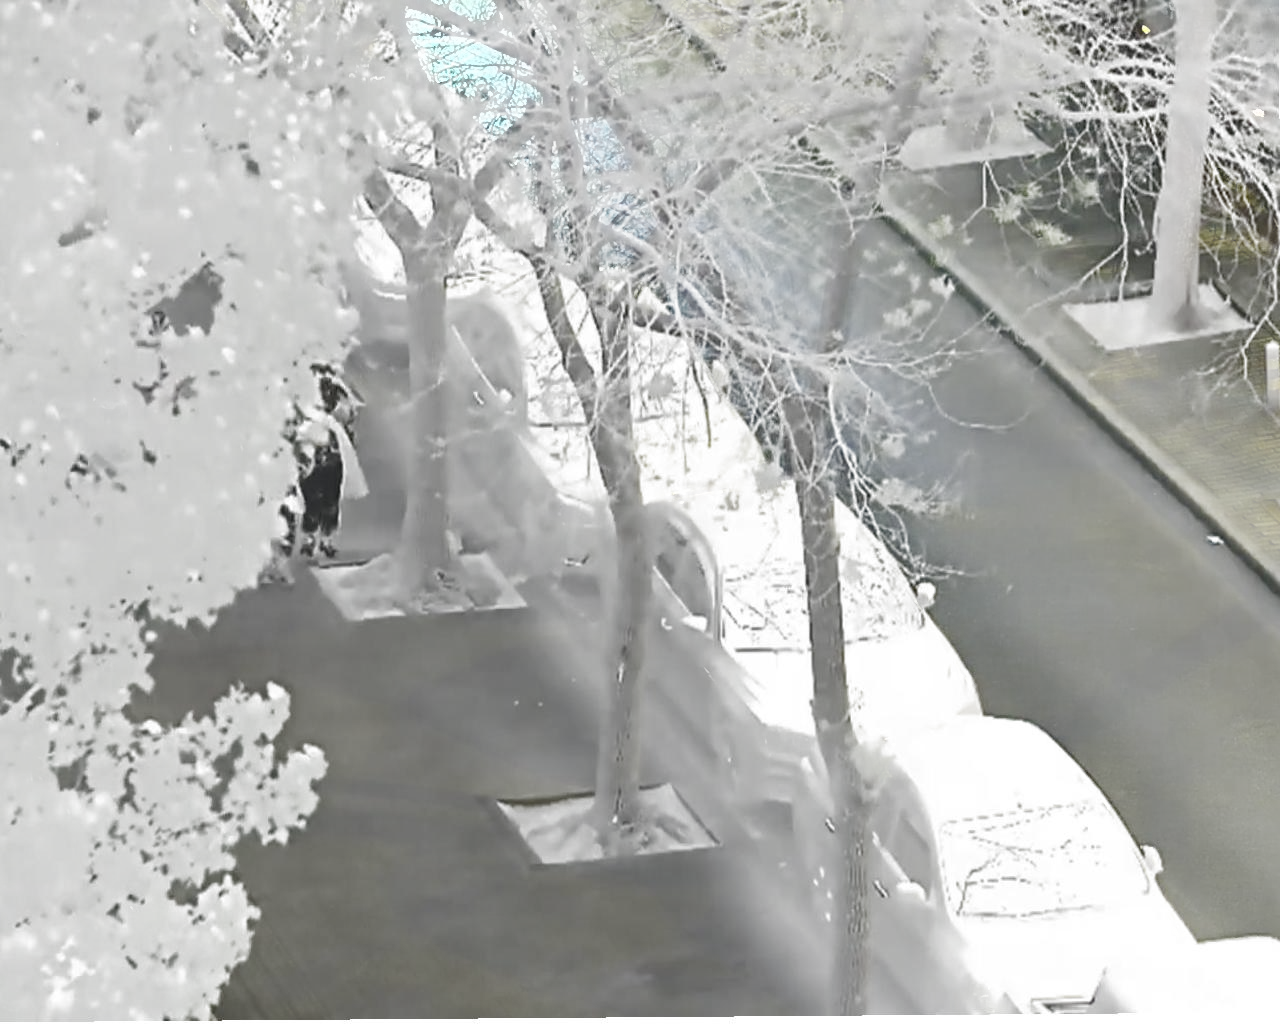person: (279, 361, 363, 562)
